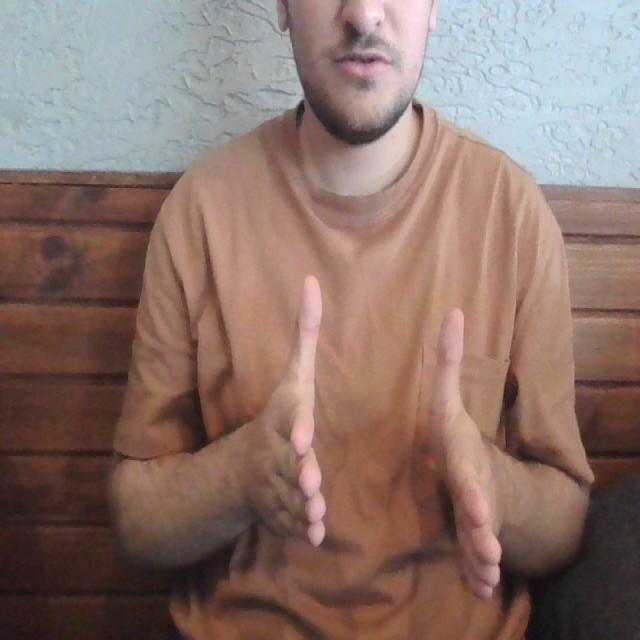Nasil: (238, 256, 512, 610)
